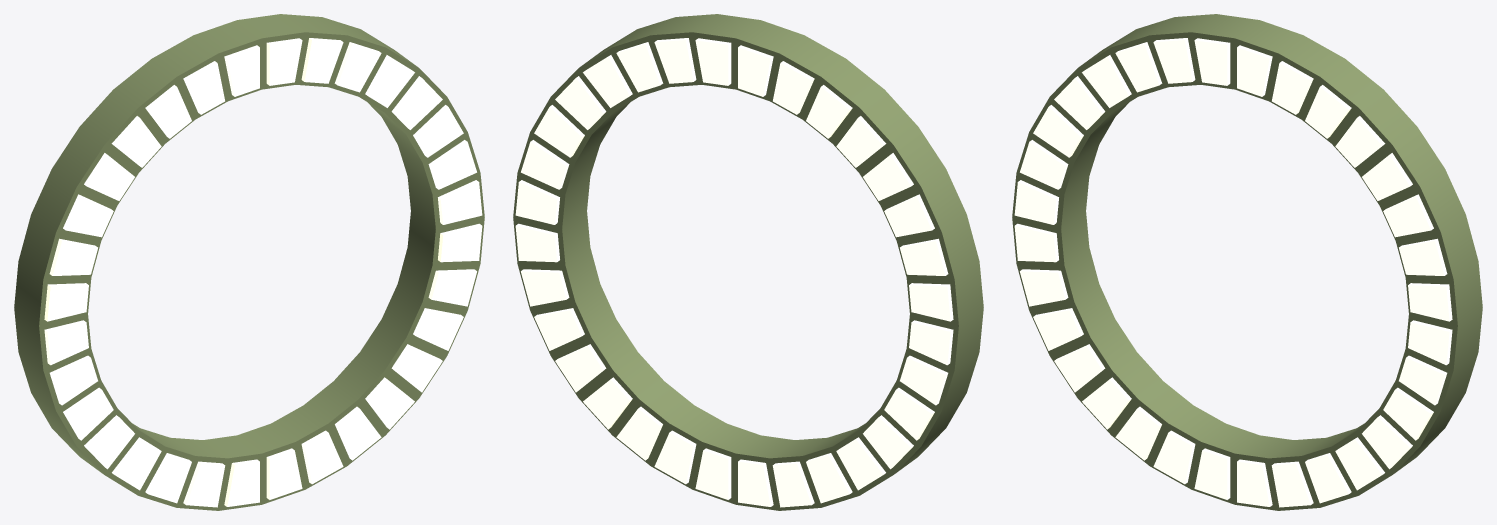
The model's file is Portal_Aro.fbx.
The picture shows the model from 3 angles, left to right: view 1: azimuth 30°, elevation 25°; view 2: azimuth 150°, elevation 25°; view 3: azimuth 330°, elevation 25°; orthographic projection.
Parts seen in each view (by area): view 1: Aro; view 2: Aro; view 3: Aro.
Part boxes in pixels (left/top/right/bottom): Aro: left=14, top=14, right=484, bottom=510; Aro: left=513, top=14, right=983, bottom=510; Aro: left=1012, top=14, right=1482, bottom=510.
Bounding box in the file's own units: 118 × 118 × 14.11.
